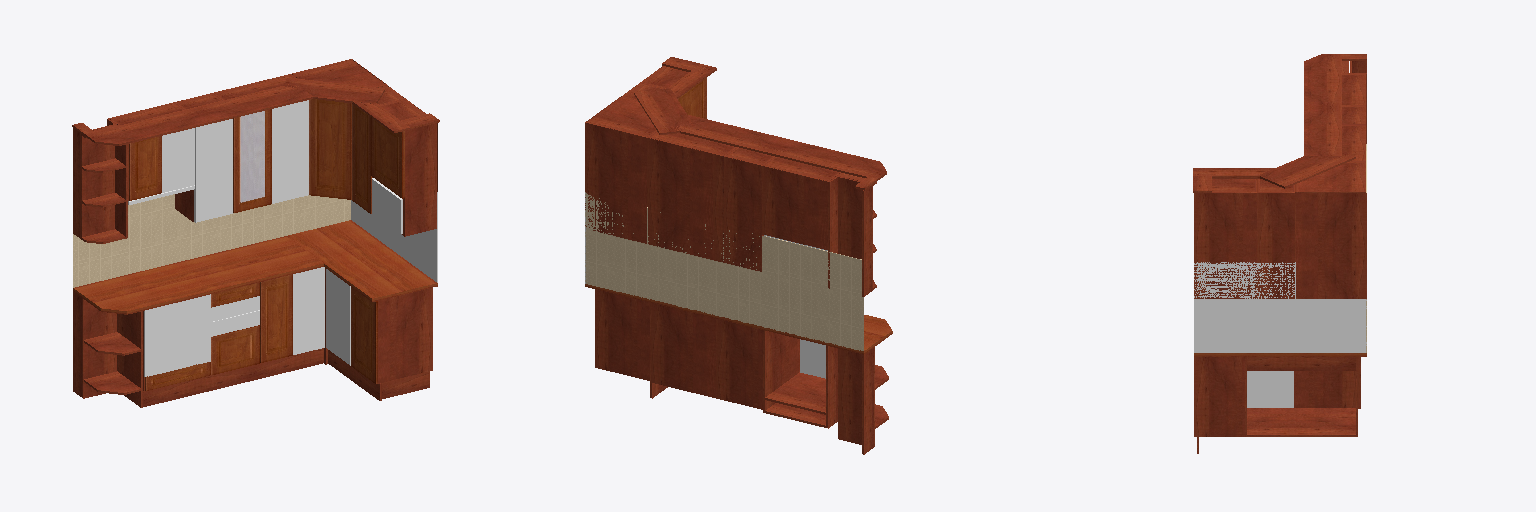
The picture shows the model from 3 angles: view 1: azimuth 30°, elevation 25°; view 2: azimuth 150°, elevation 25°; view 3: azimuth 270°, elevation 25°; orthographic projection.
Parts seen in each view (by area): view 1: panelkonha1; view 2: panelkonha1; view 3: panelkonha1.
Part boxes in pixels (bbox=[...]): panelkonha1: bbox=[72, 59, 439, 407]; panelkonha1: bbox=[585, 57, 892, 454]; panelkonha1: bbox=[1193, 54, 1366, 453].
Size of the model in its own units: 2.8 by 2.55 by 1.51.
Materials: 25 (13 with a texture image).